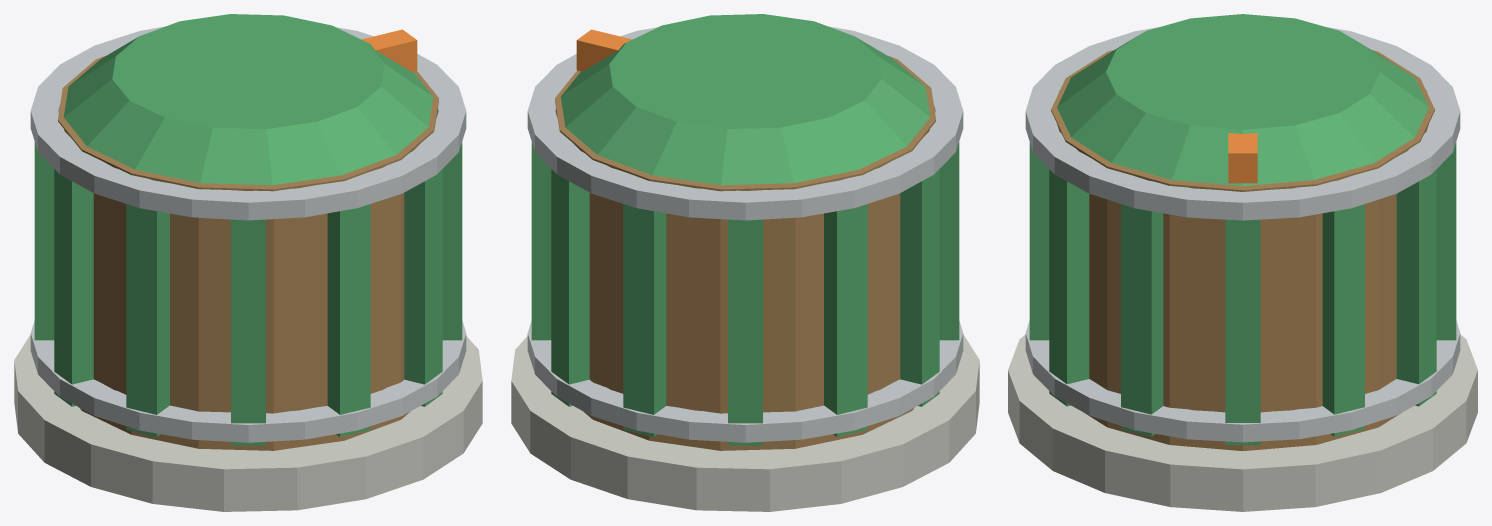
The model's file is CYCLE-022.glb.
The picture shows the model from 3 angles, left to right: view 1: azimuth 30°, elevation 25°; view 2: azimuth 150°, elevation 25°; view 3: azimuth 270°, elevation 25°; orthographic projection.
Parts seen in each view (by area): view 1: CYCLE-022; view 2: CYCLE-022; view 3: CYCLE-022.
Part boxes in pixels (x1,y1,x2,y2): CYCLE-022: [14, 14, 482, 511]; CYCLE-022: [511, 14, 979, 511]; CYCLE-022: [1008, 14, 1477, 511].
Size of the model in its own units: 2.4 by 1.92 by 2.4.
